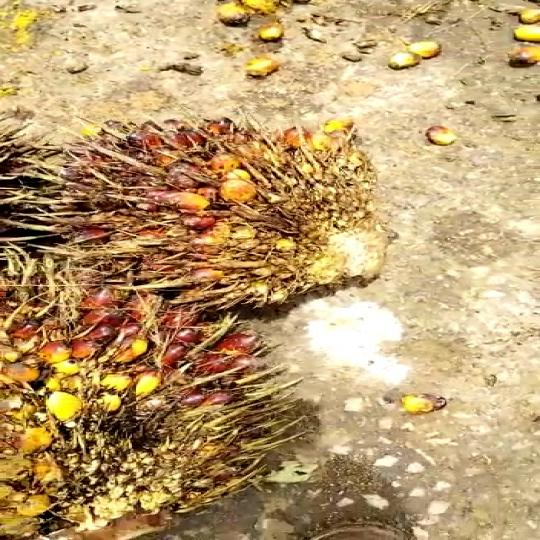masak: (0, 248, 301, 540), (63, 109, 403, 288)
